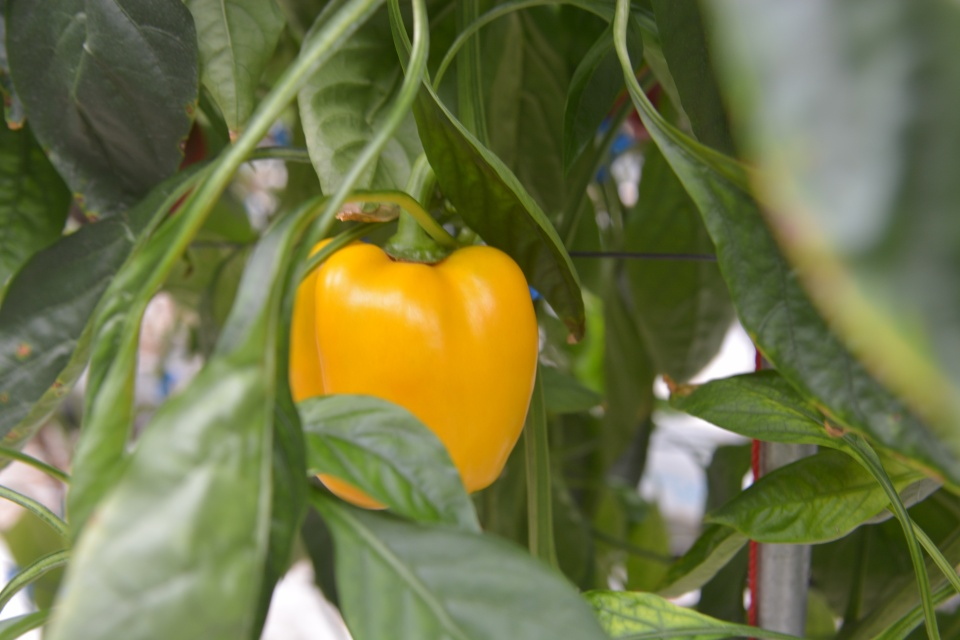fruit: (288, 234, 540, 512)
pedicle: (383, 234, 450, 264)
